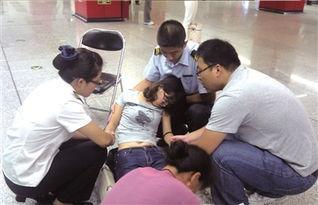Fall-Detected: (103, 74, 180, 175)
